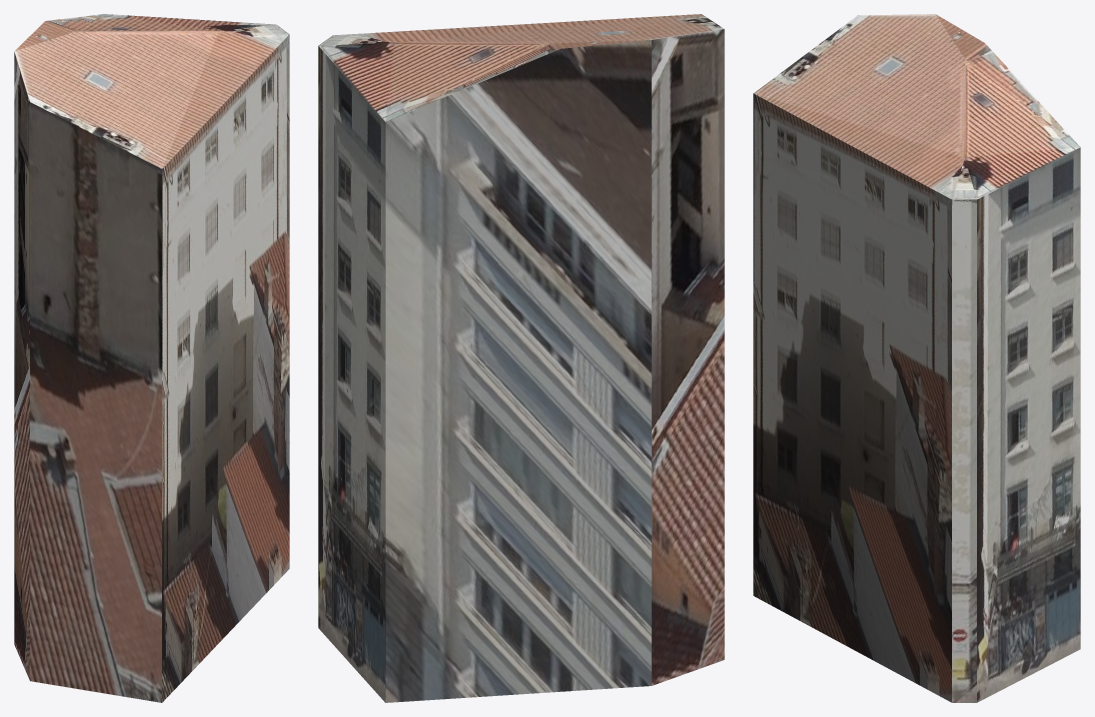
3 renders of one model, left to right at view 1: azimuth 30°, elevation 25°; view 2: azimuth 150°, elevation 25°; view 3: azimuth 270°, elevation 25°, orthographic. The views are drawn at different scales.
Parts seen in each view (by area): view 1: Z_UP; view 2: Z_UP; view 3: Z_UP.
Part boxes in pixels (x1,y1,x2,y2): Z_UP: (14, 14, 289, 702); Z_UP: (318, 14, 724, 702); Z_UP: (753, 14, 1080, 702).
Size of the model in its own units: 14.17 by 25.92 by 13.76.
Materials: 2 (1 with a texture image).
